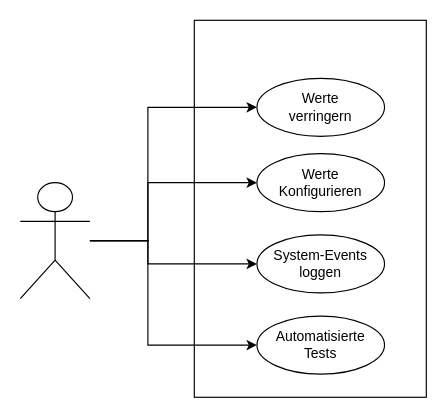
Some shapes in this 447 by 418 pixel diagram are drawn without their labels. Each missing label, with the box of its shape:
Entwickler: (19, 182, 90, 299)
PicoPet: (193, 19, 426, 397)
